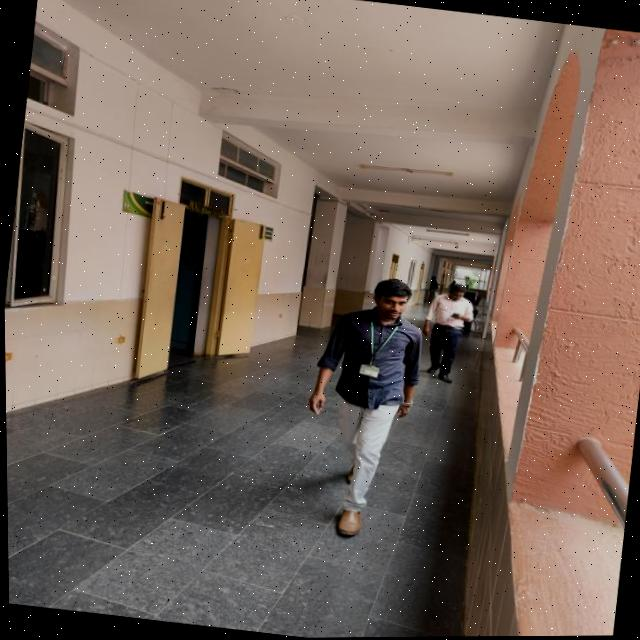id_card: (346, 313, 401, 386)
